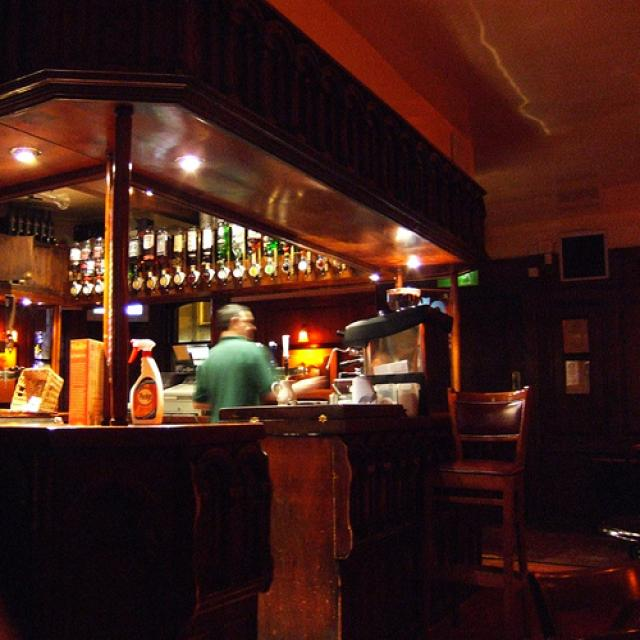People: (204, 285, 277, 436)
Table: (4, 400, 354, 640)
chair: (442, 367, 569, 562)
